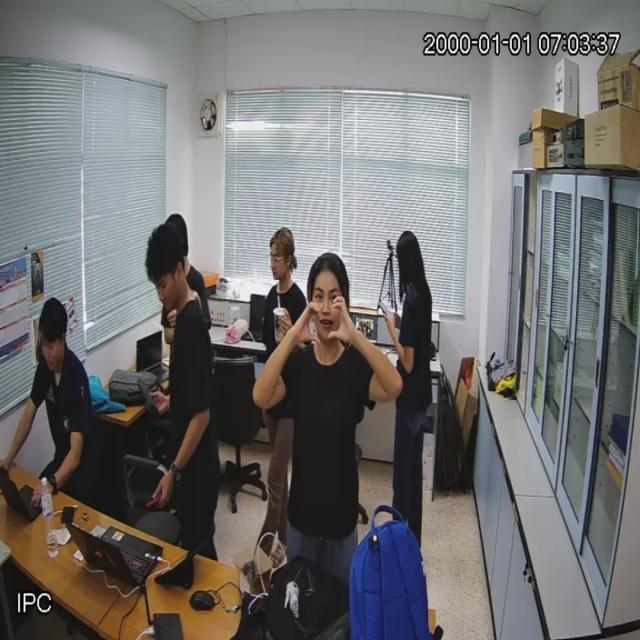normal: (260, 251, 388, 556), (142, 222, 221, 554), (10, 297, 103, 498), (385, 232, 432, 524)
